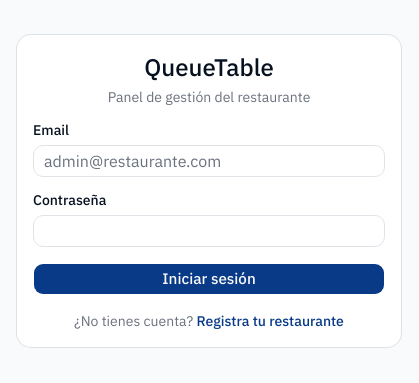
Test case: LoginPage › shows error on failed login
Type "bad@test.com" into the field labelled "Email" at coordinates (209, 161), box [33, 145, 385, 177]
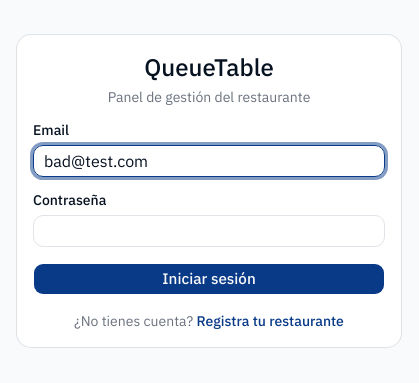
Type "wrongpass" into the password field labelled "Contraseña" at coordinates (209, 231), box [33, 215, 385, 247]
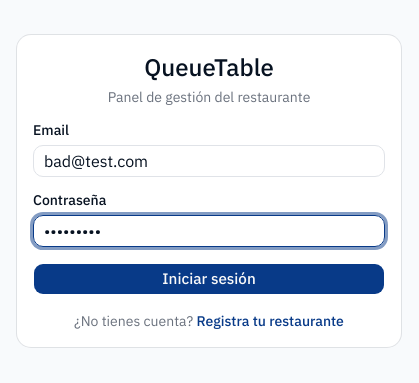
Click the button "Iniciar sesión" at coordinates (209, 279), box [33, 263, 385, 295]
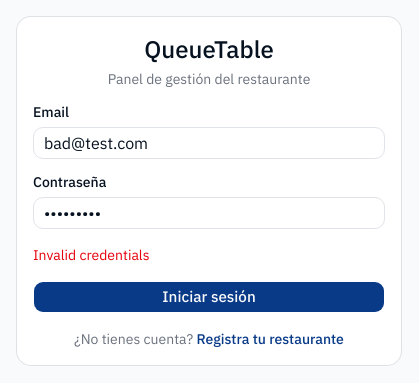
Expected: the text "Invalid credentials" is shown, [33, 246, 150, 264]
